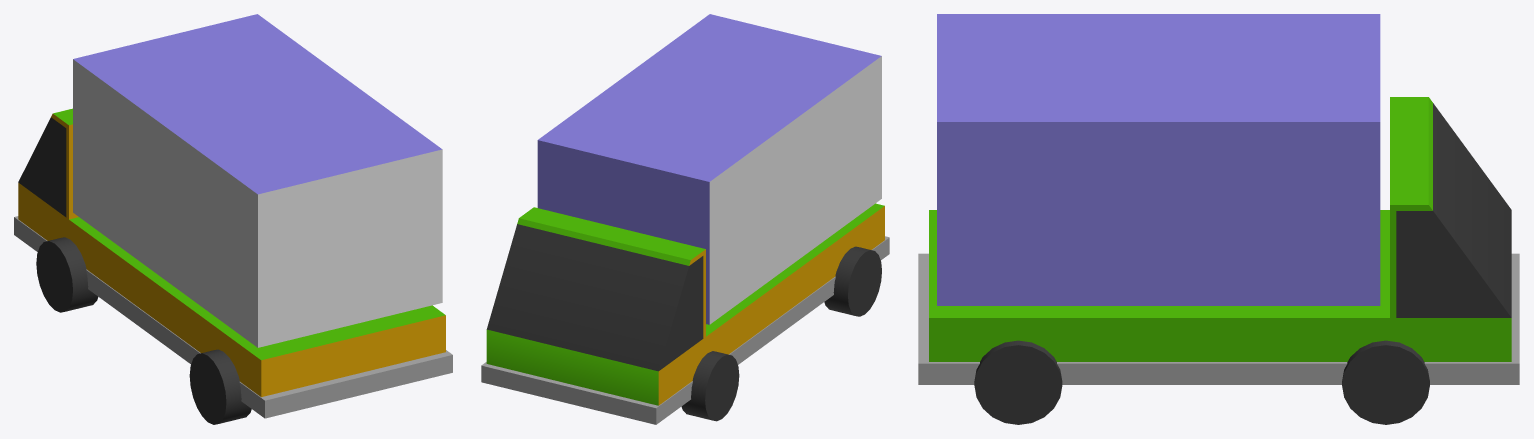
File: Environment_Tucksan-but-bigger-green.fbx
3 views of the same model, side by side, from view 1: azimuth 30°, elevation 25°; view 2: azimuth 150°, elevation 25°; view 3: azimuth 270°, elevation 25° (orthographic). The views are drawn at different scales.
Parts seen in each view (by area): view 1: Tucksan_but_bigger_green; view 2: Tucksan_but_bigger_green; view 3: Tucksan_but_bigger_green.
Boxes of the visible parts, left/top/right/bottom form: Tucksan_but_bigger_green: left=14, top=14, right=452, bottom=424; Tucksan_but_bigger_green: left=481, top=14, right=889, bottom=424; Tucksan_but_bigger_green: left=918, top=14, right=1519, bottom=424.
Size of the model in its own units: 5.05 by 5.76 by 10.53.
